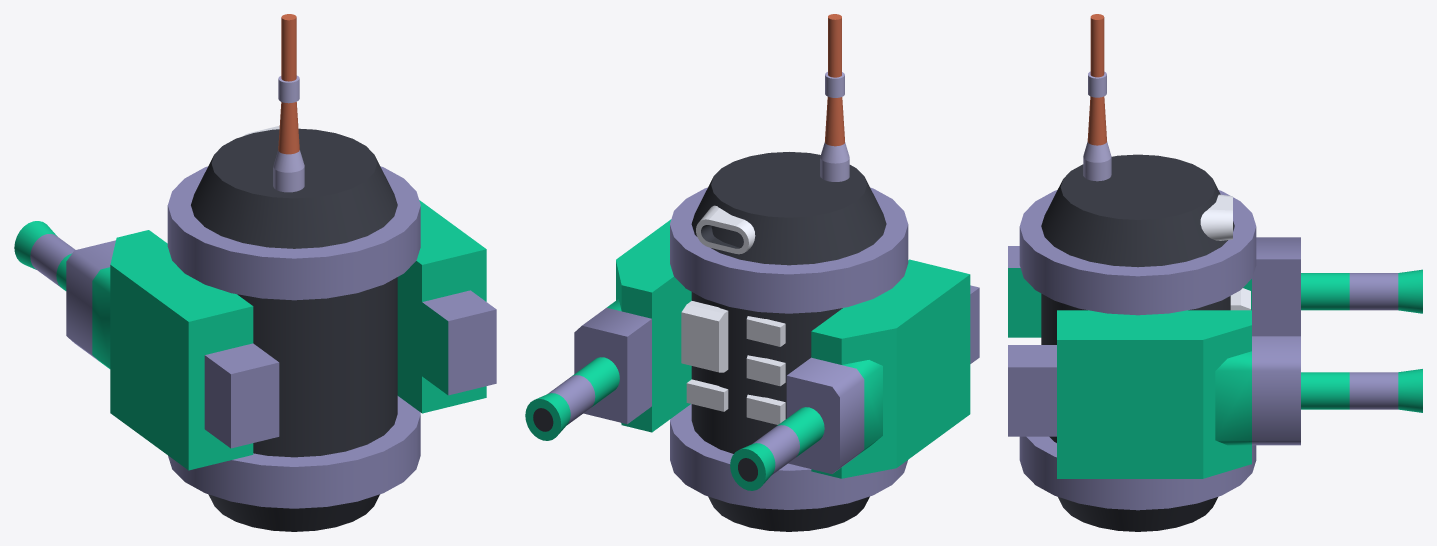
File: droid.glb
The picture shows the model from 3 angles, left to right: view 1: azimuth 30°, elevation 25°; view 2: azimuth 150°, elevation 25°; view 3: azimuth 270°, elevation 25°; orthographic projection. The views are drawn at different scales.
Parts seen in each view (by area): view 1: mergedBlocks(Clone); view 2: mergedBlocks(Clone); view 3: mergedBlocks(Clone).
Part boxes in pixels (<box>): mergedBlocks(Clone): <box>14,14,496,531</box>; mergedBlocks(Clone): <box>525,14,979,531</box>; mergedBlocks(Clone): <box>1008,14,1422,531</box>.
Bounding box in the file's own units: 0.748 × 1.21 × 0.9639.
